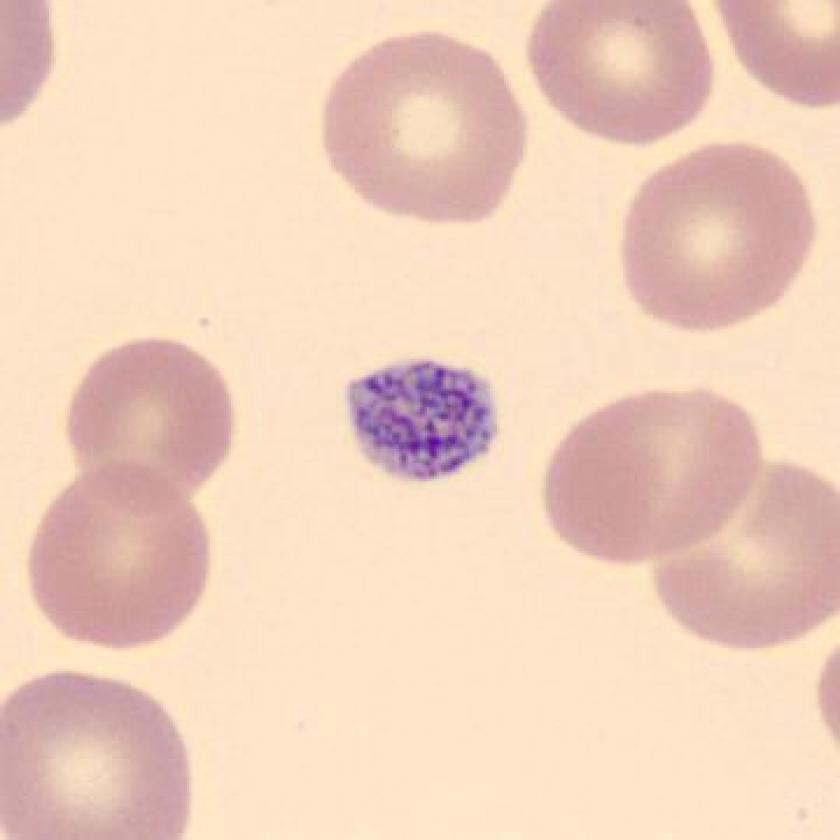platelets: (337, 348, 507, 496)
